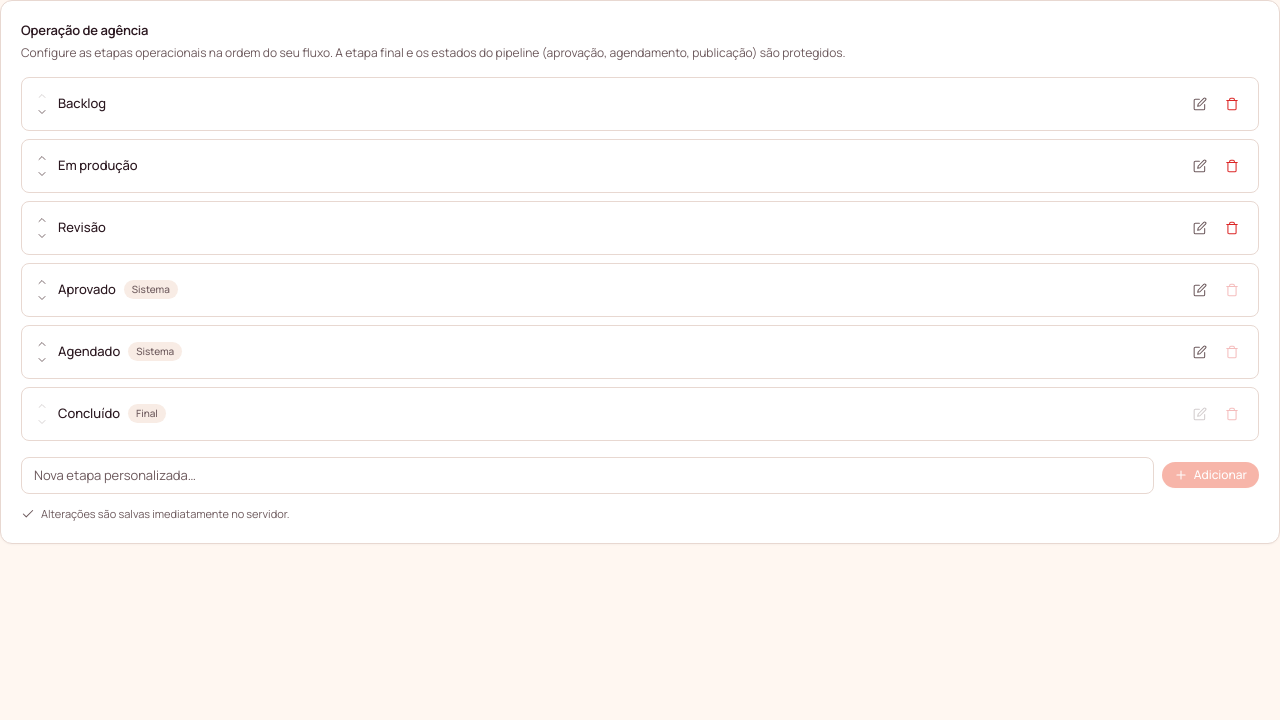
Test: Workflow Settings (R1) › surfaces a removal error (e.g. stage in use)
What coordinates should you click on to do the following:
click the button named "Remover Em produção"
I would click on:
 (1232, 166)
Its box is [1218, 152, 1246, 180].
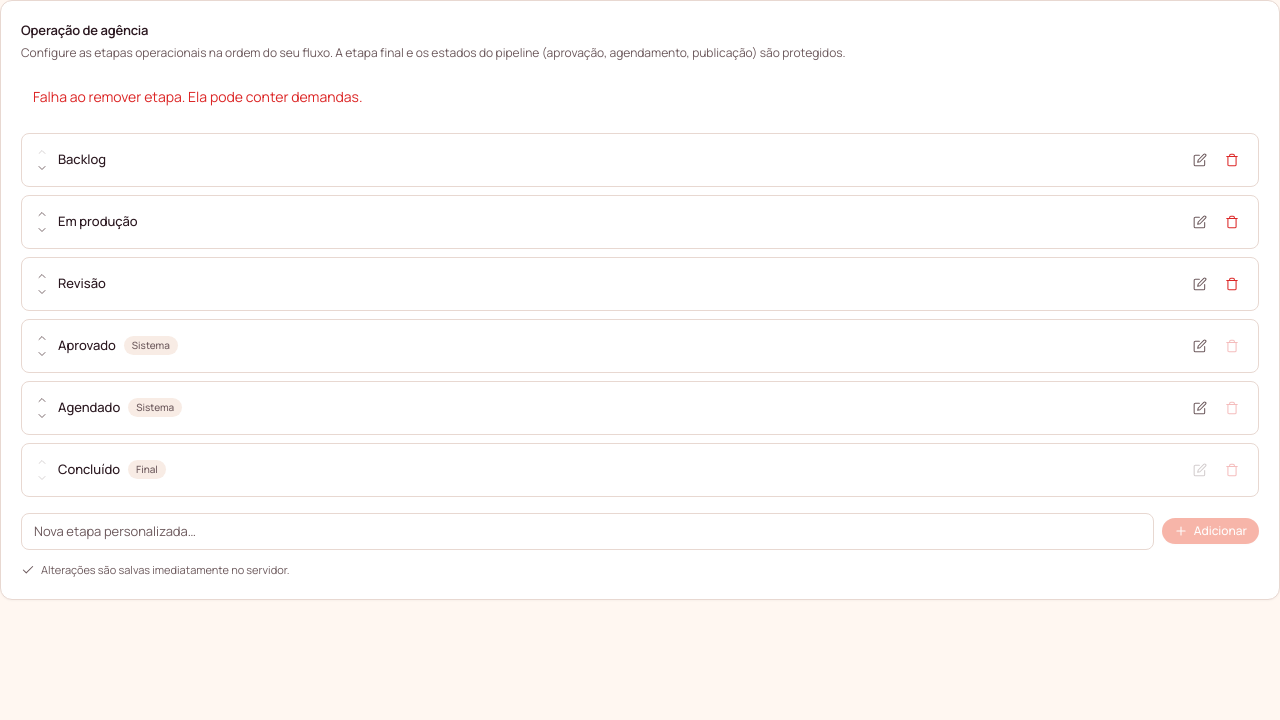
Expected: the text "Falha ao remover etapa. Ela pode conter demandas." is shown, [33, 86, 362, 106]
